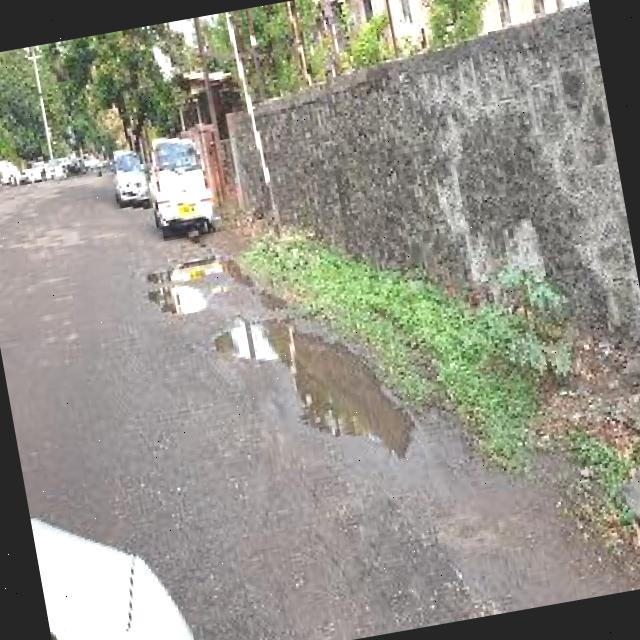stagnation: (163, 297, 432, 486), (122, 242, 237, 332)
